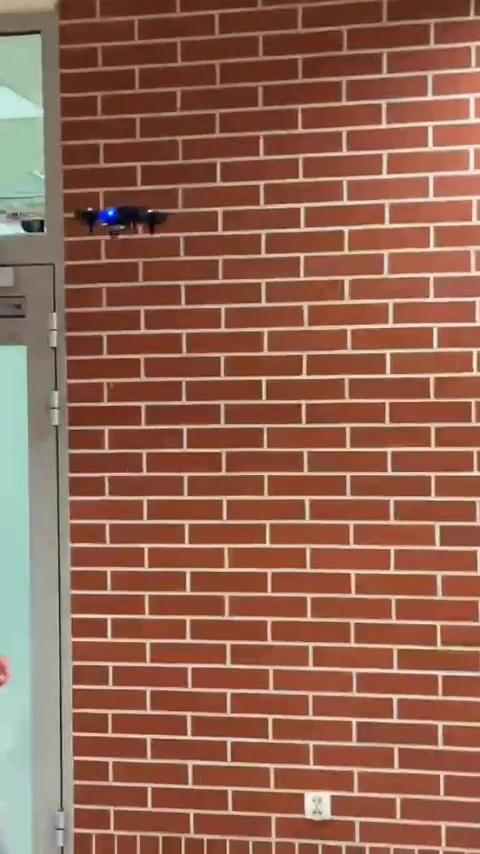drone: (75, 198, 162, 238)
